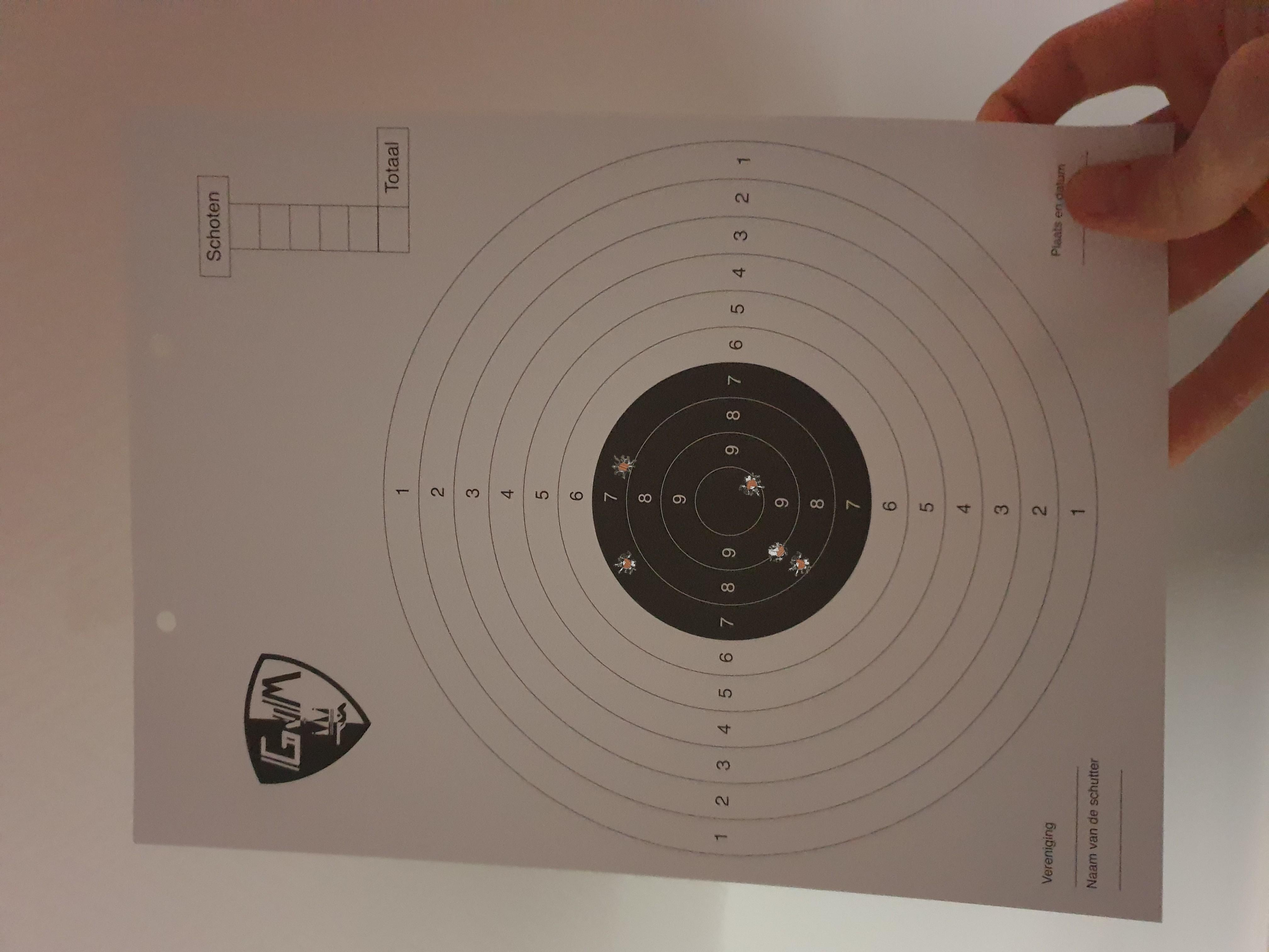hole: (738, 472, 764, 497), (611, 455, 637, 479), (788, 551, 812, 577), (613, 551, 637, 575), (767, 541, 788, 564)
